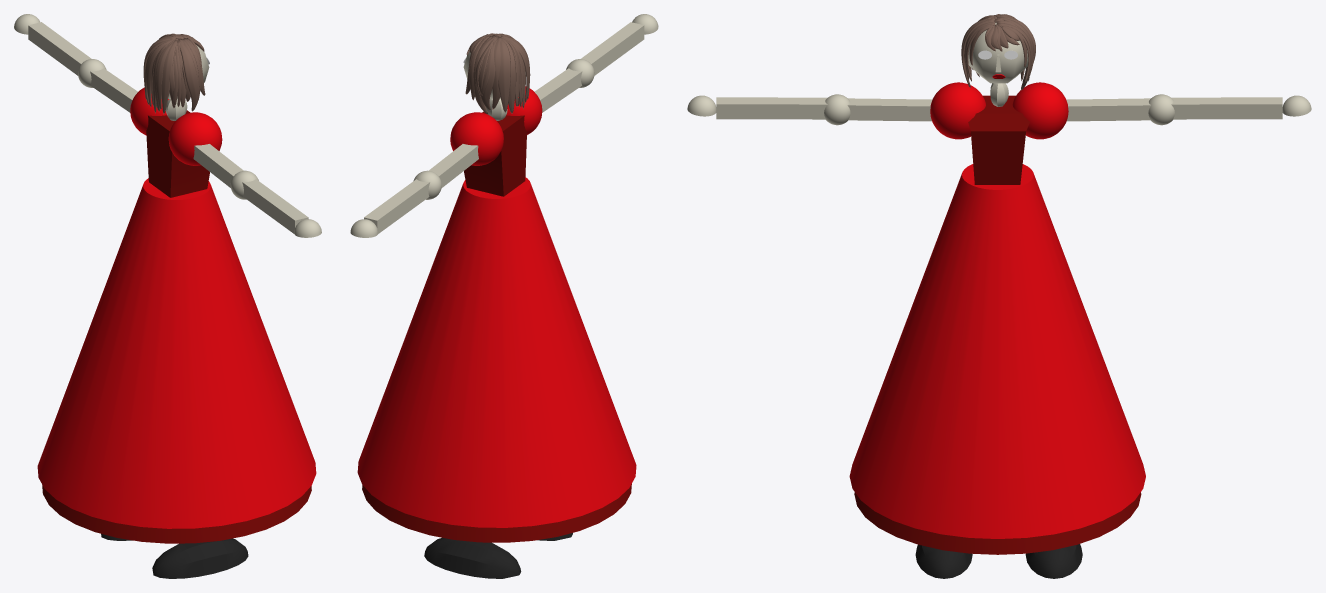
Rendered from NoraPuppe.fbx.
3 views of the same model, side by side, from view 1: azimuth 30°, elevation 25°; view 2: azimuth 150°, elevation 25°; view 3: azimuth 270°, elevation 25° (orthographic). The views are drawn at different scales.
Parts seen in each view (by area): view 1: Circle.005, Circle.009, HairCleanedUp.003, Cube.022, Sphere.033, Sphere.031, Cube.020, Cube.017, Cube.018, Cube.021, Sphere.030, Sphere.013 (+1 smaller); view 2: Circle.005, HairCleanedUp.003, Circle.009, Cube.022, Sphere.032, Sphere.030, Cube.017, Cube.020, Cube.021, Cube.018, Sphere.031, Sphere.029 (+1 smaller); view 3: Circle.005, Circle.009, Cube.022, Cube.020, Cube.017, HairCleanedUp.003, Sphere.030, Sphere.031, Cube.018, Cube.021, Sphere.028, Sphere.032 (+1 smaller).
Boxes of the visible parts, x1=… form: Circle.005: x1=37, y1=178, x2=316, y2=528; Circle.009: x1=42, y1=485, x2=311, y2=543; HairCleanedUp.003: x1=143, y1=33, x2=205, y2=114; Cube.022: x1=146, y1=110, x2=209, y2=197; Sphere.033: x1=152, y1=538, x2=248, y2=578; Sphere.031: x1=168, y1=112, x2=222, y2=165; Cube.020: x1=242, y1=179, x2=321, y2=237; Cube.017: x1=14, y1=14, x2=91, y2=75; Cube.018: x1=90, y1=68, x2=137, y2=112; Cube.021: x1=193, y1=144, x2=243, y2=187; Sphere.030: x1=130, y1=87, x2=168, y2=135; Sphere.013: x1=78, y1=59, x2=106, y2=87; Circle.005: x1=357, y1=177, x2=636, y2=527; HairCleanedUp.003: x1=465, y1=33, x2=530, y2=114; Circle.009: x1=362, y1=484, x2=631, y2=542; Cube.022: x1=464, y1=111, x2=526, y2=196; Sphere.032: x1=424, y1=537, x2=521, y2=578; Sphere.030: x1=450, y1=112, x2=503, y2=165; Cube.017: x1=350, y1=179, x2=430, y2=237; Cube.020: x1=581, y1=14, x2=658, y2=75; Cube.021: x1=534, y1=68, x2=582, y2=112; Cube.018: x1=428, y1=144, x2=478, y2=188; Sphere.031: x1=506, y1=86, x2=542, y2=134; Sphere.029: x1=566, y1=59, x2=594, y2=87; Circle.005: x1=849, y1=164, x2=1145, y2=538; Circle.009: x1=854, y1=492, x2=1141, y2=554; Cube.022: x1=968, y1=95, x2=1029, y2=184; Cube.020: x1=687, y1=95, x2=827, y2=119; Cube.017: x1=1171, y1=95, x2=1311, y2=119; HairCleanedUp.003: x1=961, y1=14, x2=1035, y2=90; Sphere.030: x1=1012, y1=82, x2=1068, y2=139; Sphere.031: x1=930, y1=82, x2=985, y2=139; Cube.018: x1=1066, y1=98, x2=1151, y2=121; Cube.021: x1=847, y1=98, x2=932, y2=121; Sphere.028: x1=968, y1=22, x2=1028, y2=83; Sphere.032: x1=1025, y1=544, x2=1082, y2=578.
Size of the model in its own units: 61.14 by 123 by 129.
